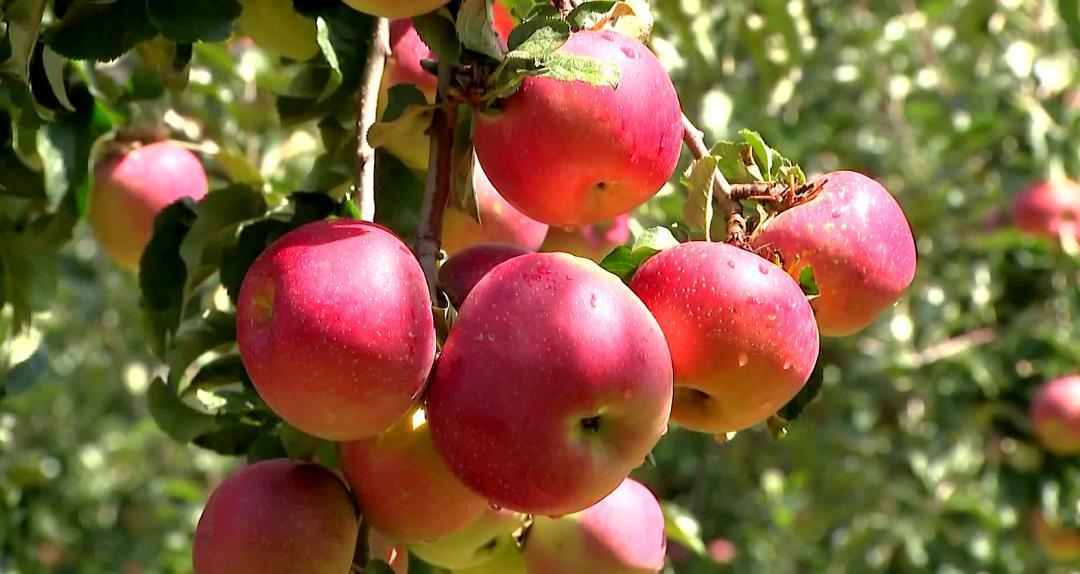apple: (429, 248, 675, 512), (468, 22, 690, 227), (242, 221, 435, 436), (625, 237, 818, 437), (745, 165, 917, 339), (192, 456, 359, 569), (86, 131, 210, 266), (520, 478, 667, 571), (1009, 176, 1078, 246)
